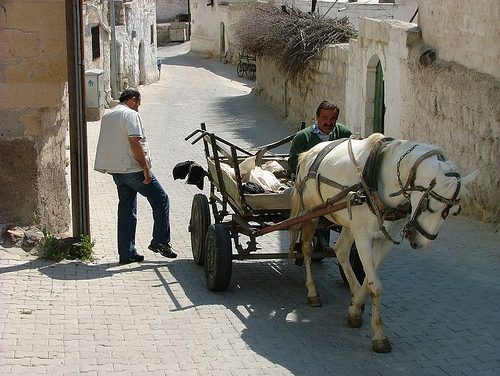horse: (288, 132, 484, 357)
